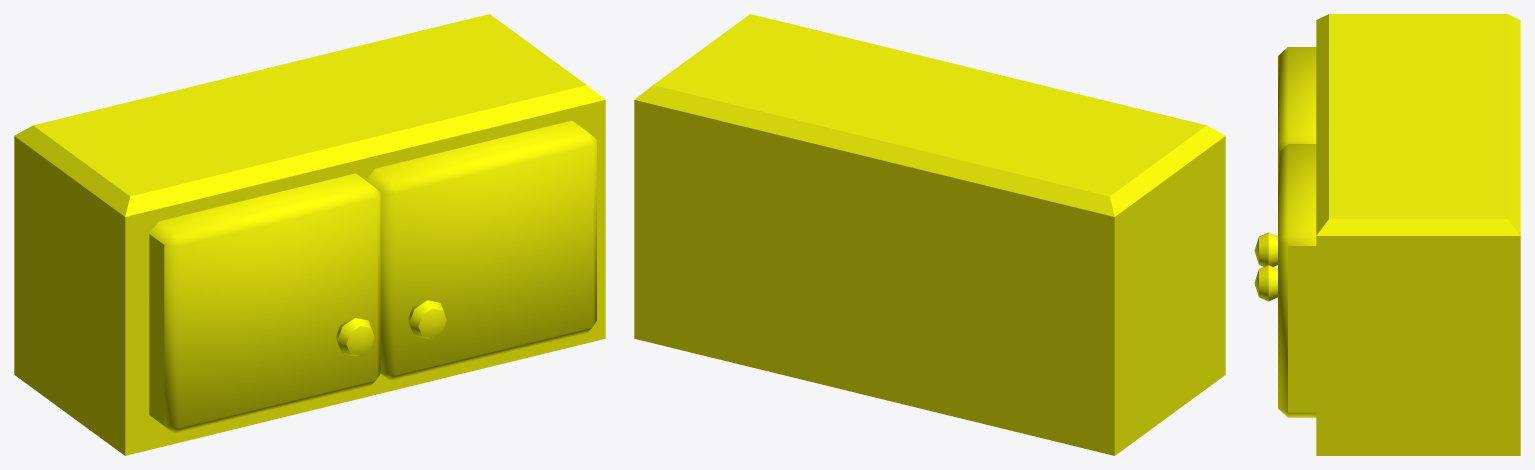
The model's file is kitchencabinet_half.gltf.
The picture shows the model from 3 angles, left to right: view 1: azimuth 30°, elevation 25°; view 2: azimuth 150°, elevation 25°; view 3: azimuth 270°, elevation 25°; orthographic projection. The views are drawn at different scales.
Visible parts, largest first — view 1: kitchencabinet_half; view 2: kitchencabinet_half; view 3: kitchencabinet_half.
Boxes of the visible parts, box(x1,y1,x2,y2) form: kitchencabinet_half: box(14, 14, 605, 455); kitchencabinet_half: box(634, 14, 1225, 455); kitchencabinet_half: box(1254, 14, 1520, 455).
Bounding box in the file's own units: 2 × 1 × 1.04.
1 material, 1 textured.
